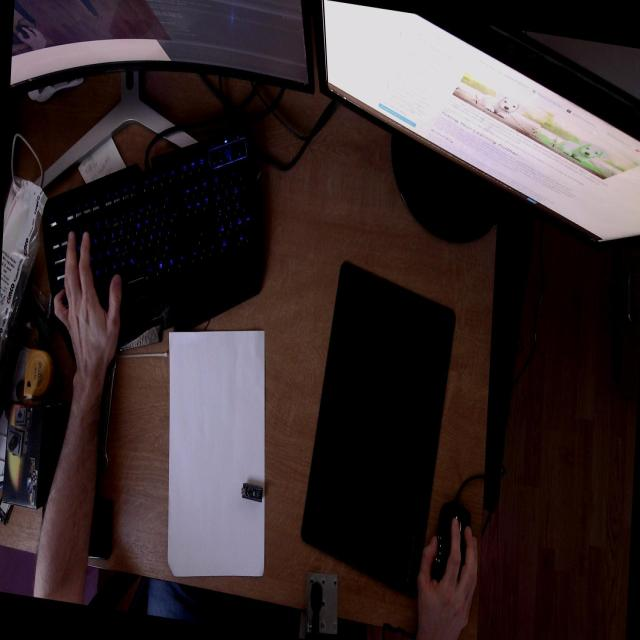keyboard-with-hands: (39, 123, 282, 369)
